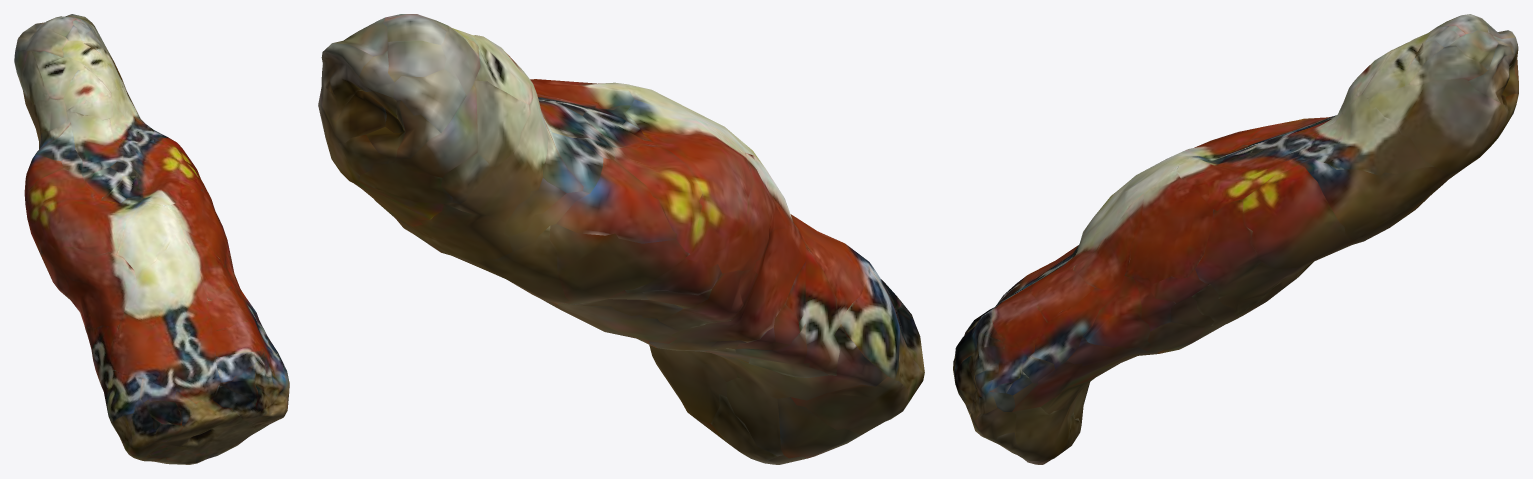
Rendered from hall.glb.
3 views of the same model, side by side, from view 1: azimuth 30°, elevation 25°; view 2: azimuth 150°, elevation 25°; view 3: azimuth 270°, elevation 25° (orthographic). The views are drawn at different scales.
Bounding box in the file's own units: 0.3106 × 0.5843 × 0.6604.
1 material, 1 textured.
